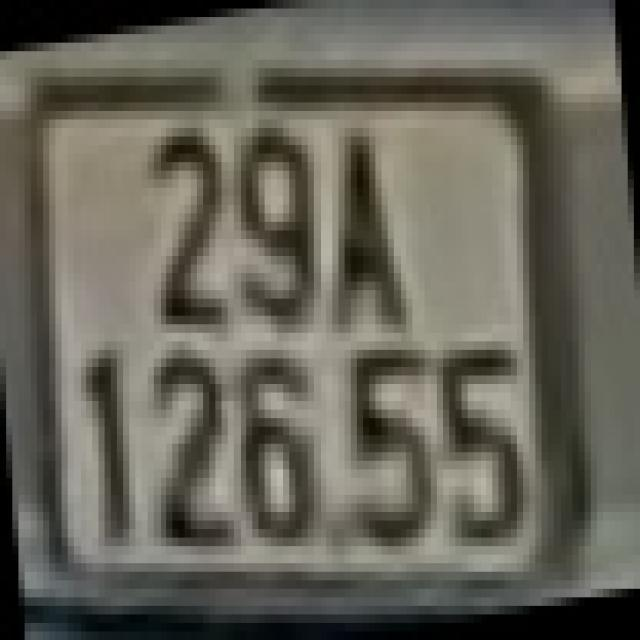1: (80, 349, 142, 546)
2: (148, 119, 228, 333), (154, 349, 234, 546)
5: (344, 341, 438, 546), (443, 341, 529, 546)
6: (240, 349, 314, 546)
9: (234, 119, 320, 333)
A: (326, 128, 419, 342)
